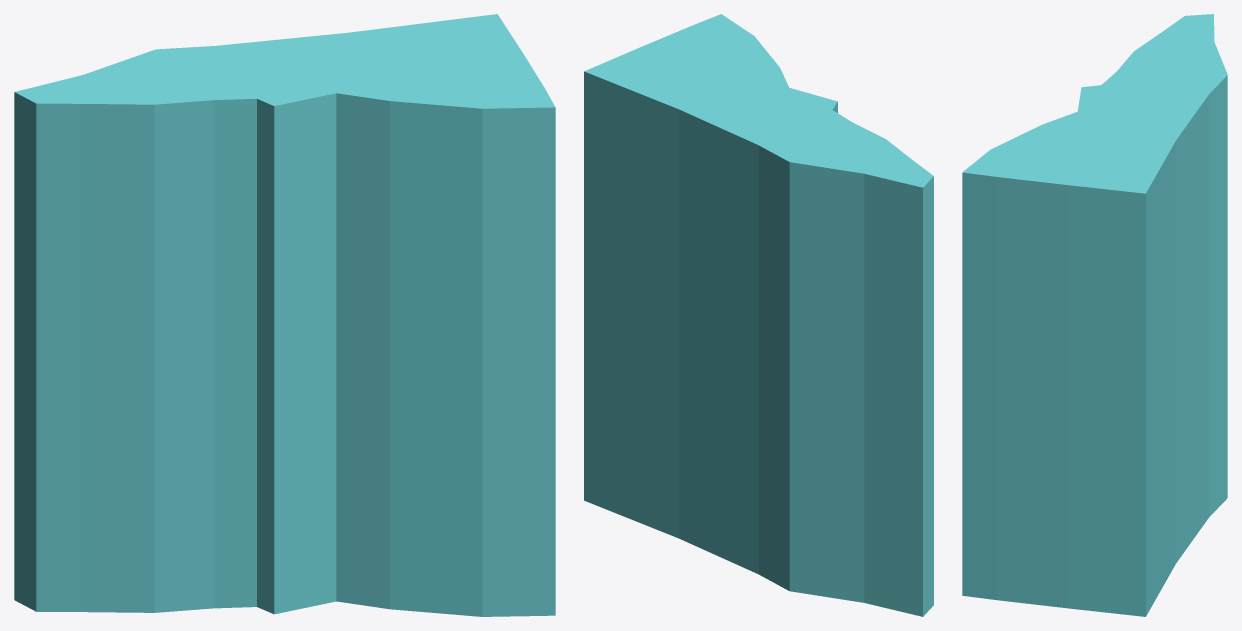
The model's file is neptune.glb.
The picture shows the model from 3 angles, left to right: view 1: azimuth 30°, elevation 25°; view 2: azimuth 150°, elevation 25°; view 3: azimuth 270°, elevation 25°; orthographic projection. The views are drawn at different scales.
Parts seen in each view (by area): view 1: Plane.019; view 2: Plane.019; view 3: Plane.019.
Part boxes in pixels (<box>): Plane.019: <box>14,14,555,616</box>; Plane.019: <box>584,14,933,616</box>; Plane.019: <box>962,14,1227,616</box>.
Size of the model in its own units: 0.3512 by 0.3856 by 0.2193.
